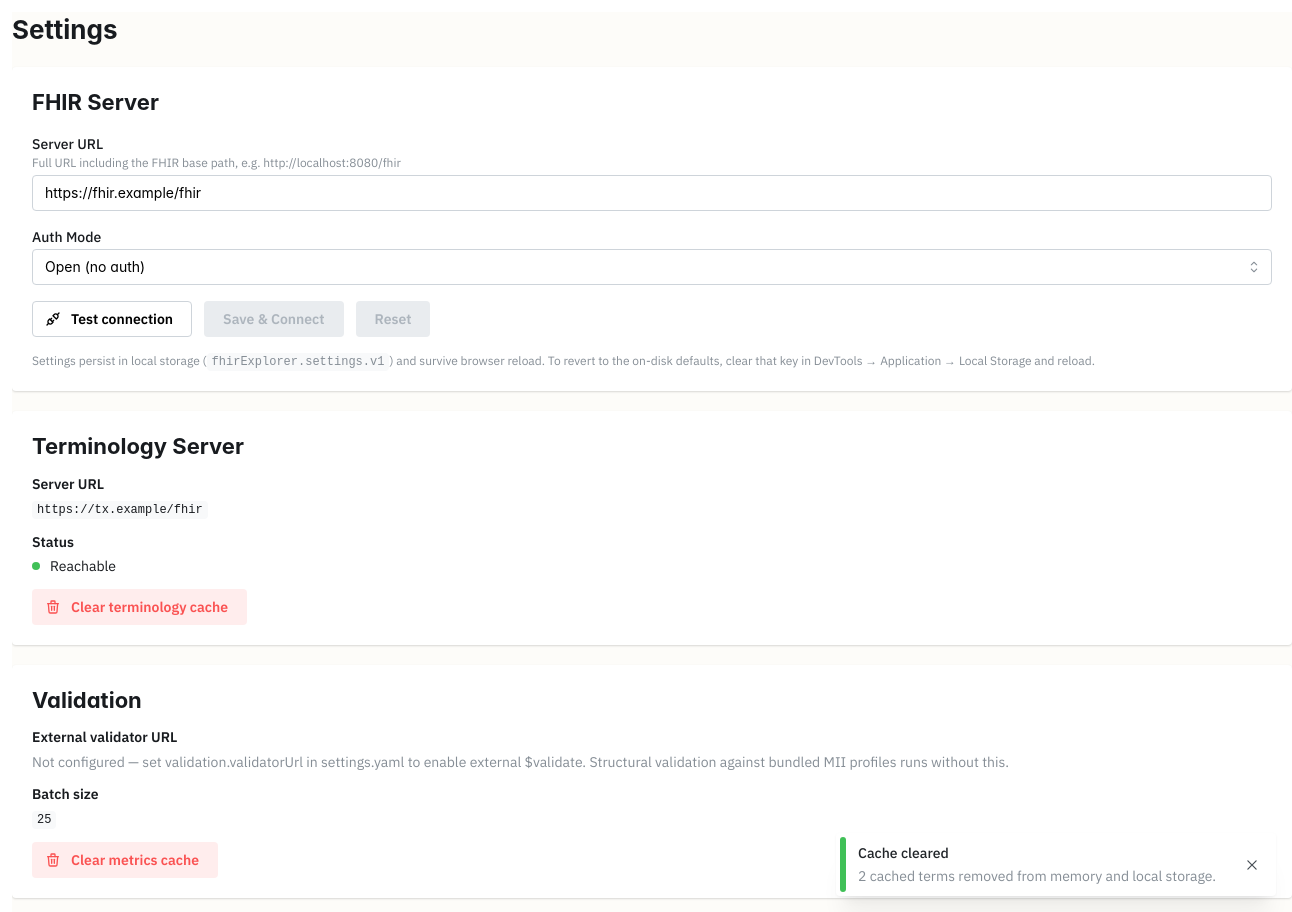
SettingsPage — Clear terminology cache (V-09) › Clear with empty cache shows no-op message
The width and height of the screenshot is (1292, 912).
Step 1. Click the button "Clear terminology cache" → click(140, 606), box [32,588,247,624]
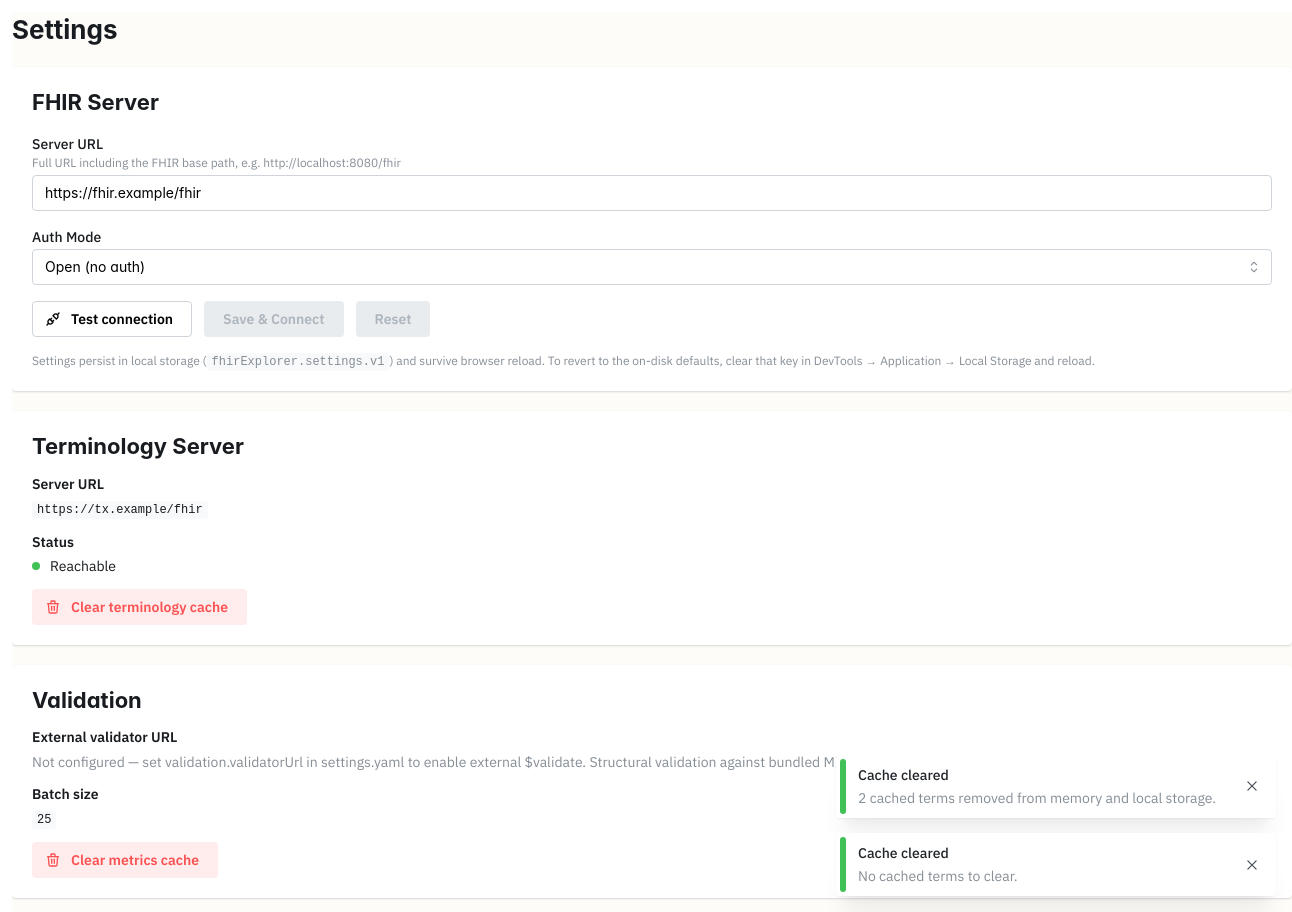
Result: the text "No cached terms to clear." is shown at [858,867,1018,885]
